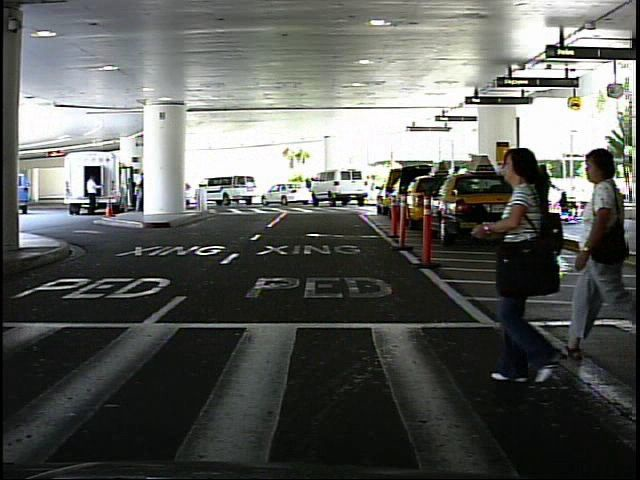person: (479, 138, 567, 396), (85, 172, 104, 218), (365, 171, 379, 206), (596, 172, 597, 218)
